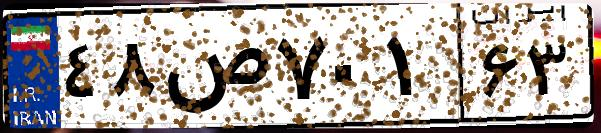0: (330, 28, 385, 110)
1: (385, 28, 445, 110)
3: (525, 38, 570, 115)
4: (57, 26, 110, 100)
6: (475, 38, 525, 113)
7: (270, 28, 330, 110)
8: (110, 28, 158, 98)
ص: (158, 20, 270, 120)
